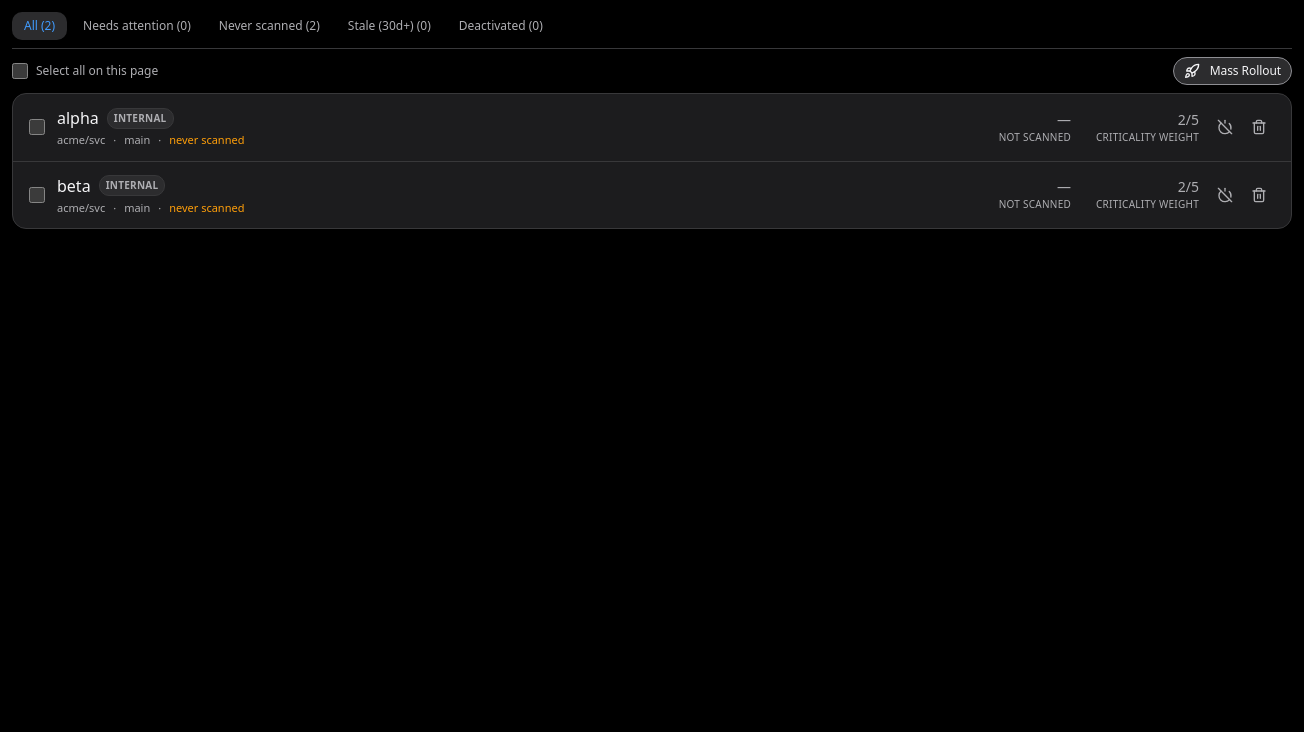
Test: TargetsList bulk selection › clears the selection from the bar's own Clear control
What coordinates should you click on to do the following:
click the checkbox named "Select alpha"
I would click on:
 (37, 127)
Its box is [29, 119, 45, 135].
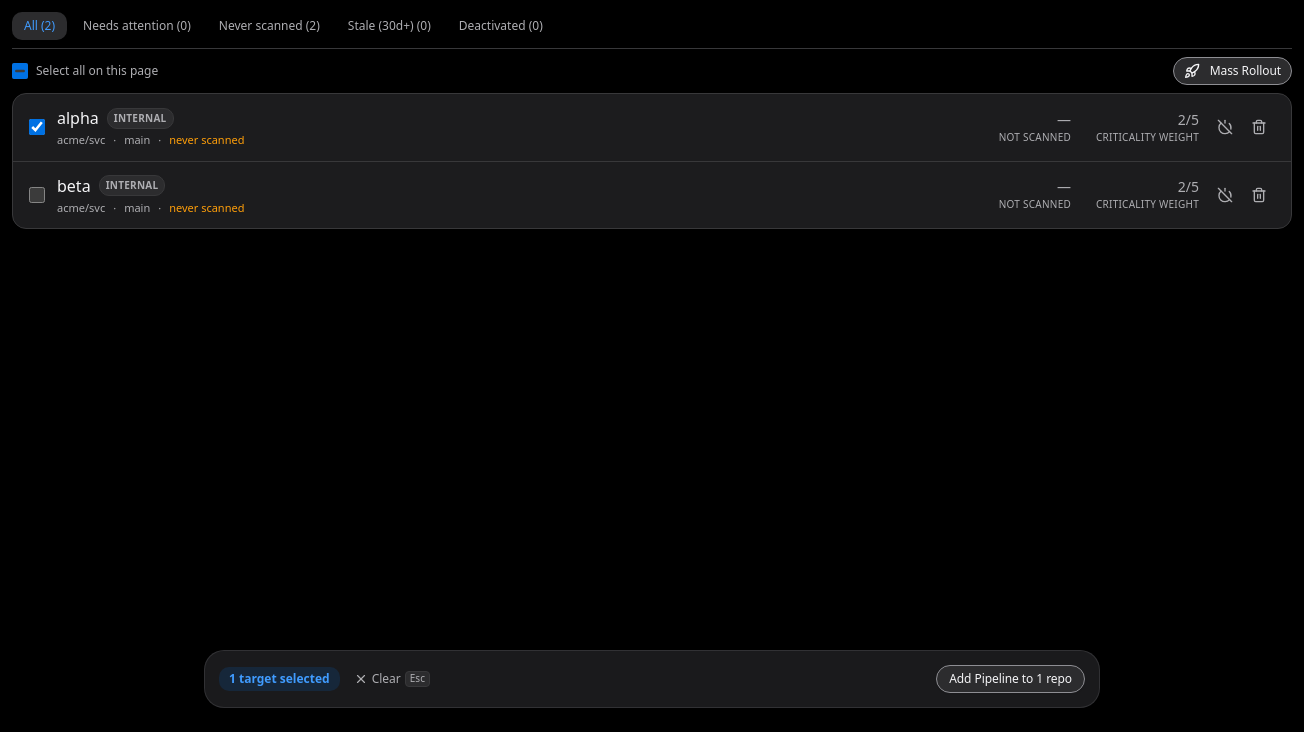
What coordinates should you click on to do the following:
click the button with aria-label "Clear selection"
I would click on:
 (392, 679)
Its box is [348, 667, 436, 691].
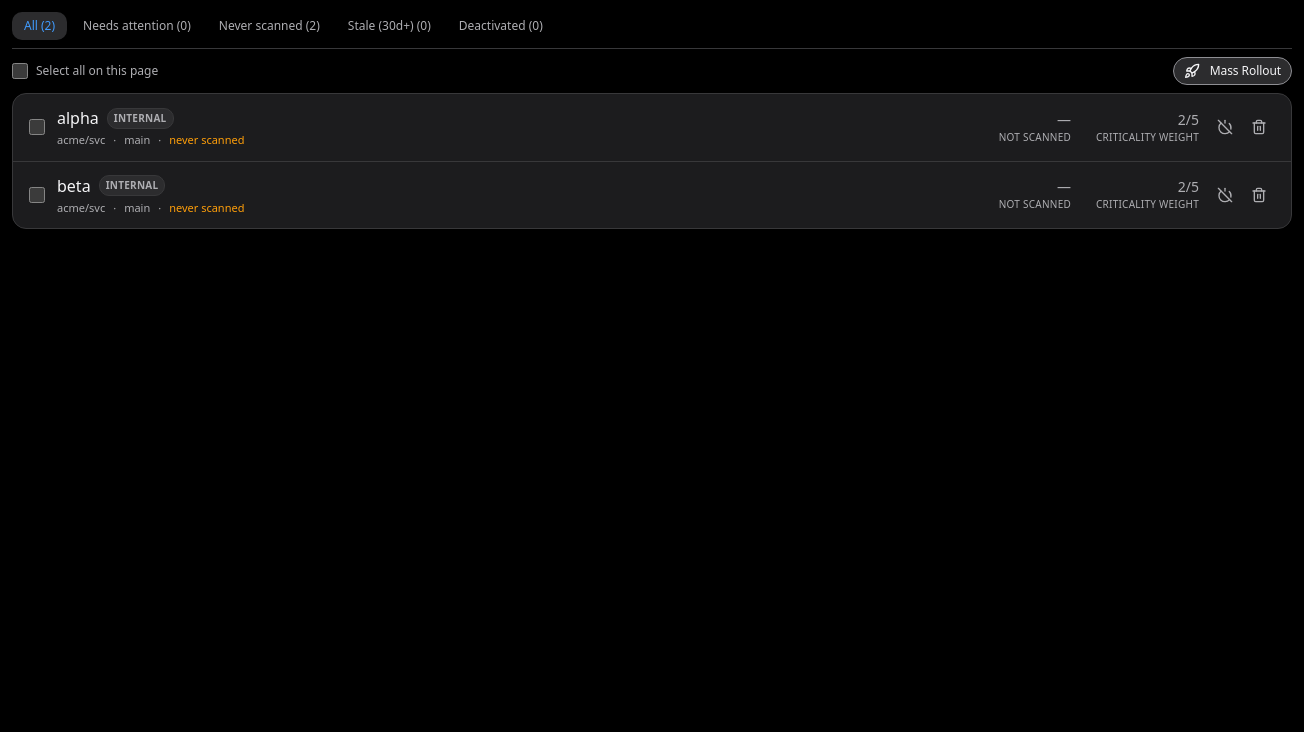
Result: the checkbox named "Select alpha" is not checked at [29, 119, 45, 135]
Result: the message "1 target selected Clear Esc Add Pipeline to 1 repo" is gone
